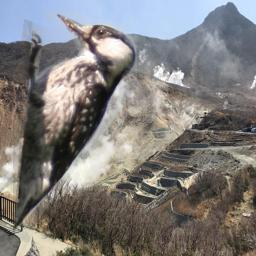Woodpecker: (13, 11, 137, 242)
